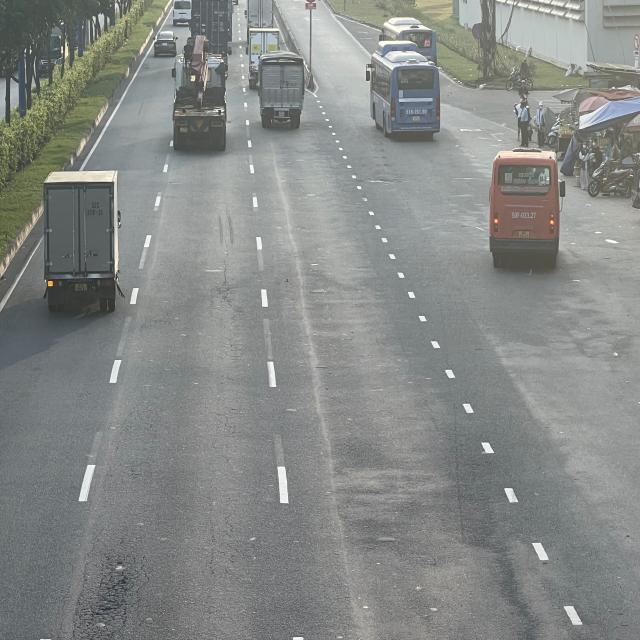car: (152, 30, 178, 57)
coach: (364, 40, 438, 139), (380, 17, 437, 59)
truck: (42, 169, 122, 310), (172, 48, 228, 151), (258, 55, 304, 131), (246, 28, 280, 86), (244, 0, 274, 27)
van: (489, 150, 564, 268), (172, 0, 192, 24)
